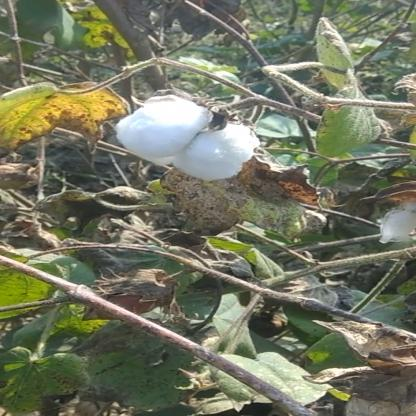cotton_ready: (123, 96, 256, 174)
